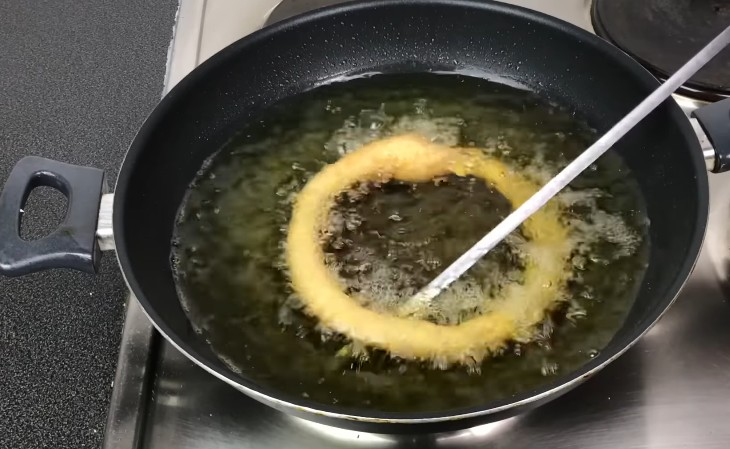sel_roti: (285, 132, 573, 366)
